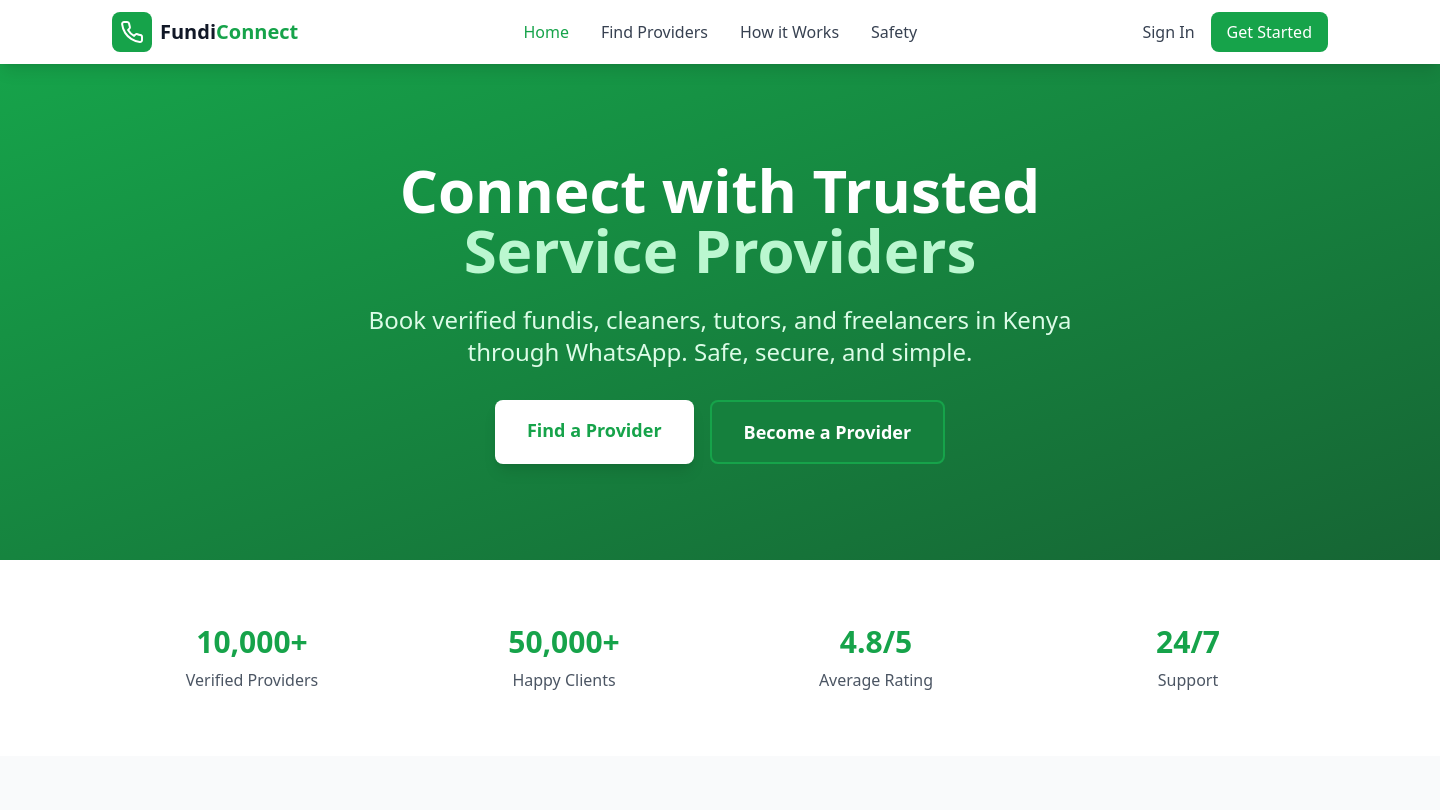
Test case: Link Navigation Integration Tests › navigation between pages works correctly
Check: the heading "Connect with Trusted Service Providers" is shown, box [400, 149, 1040, 291]
Note: Navigate to providers page
Click the link "Find Providers": (654, 32) [601, 20, 708, 44]
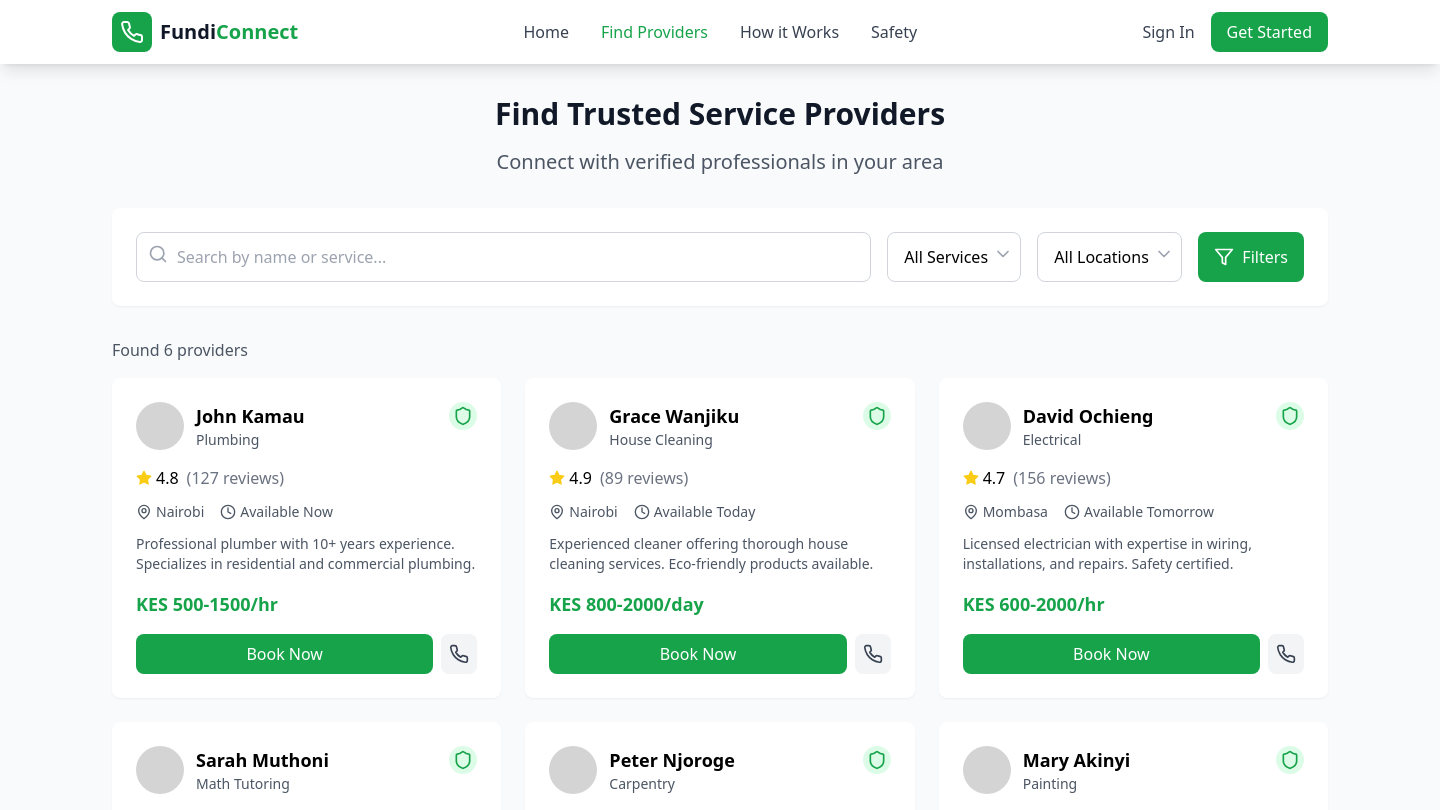
Check: the heading "Find Trusted Service Providers" is shown, box [495, 93, 945, 134]
